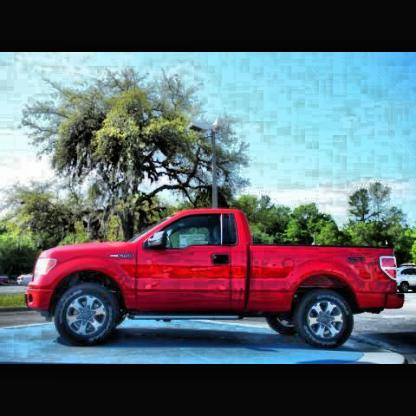Ford F-150 Regular Cab 2012: (25, 211, 405, 347)
